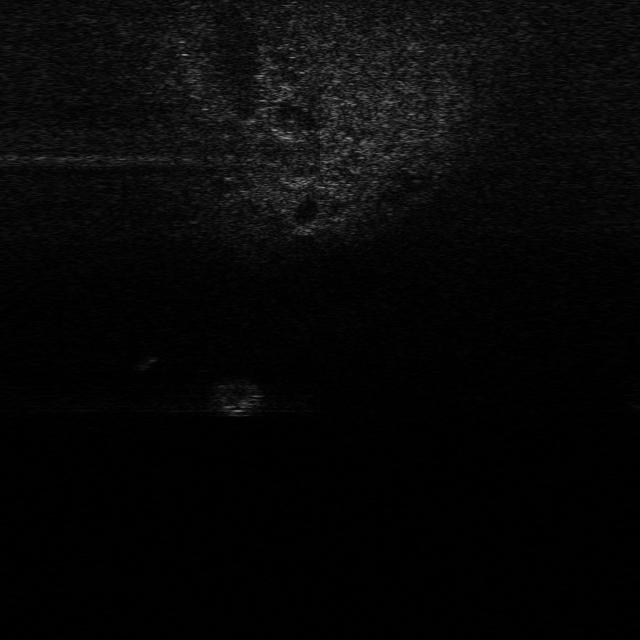circle cage: (213, 381, 277, 420)
cylinder: (122, 350, 162, 379)
